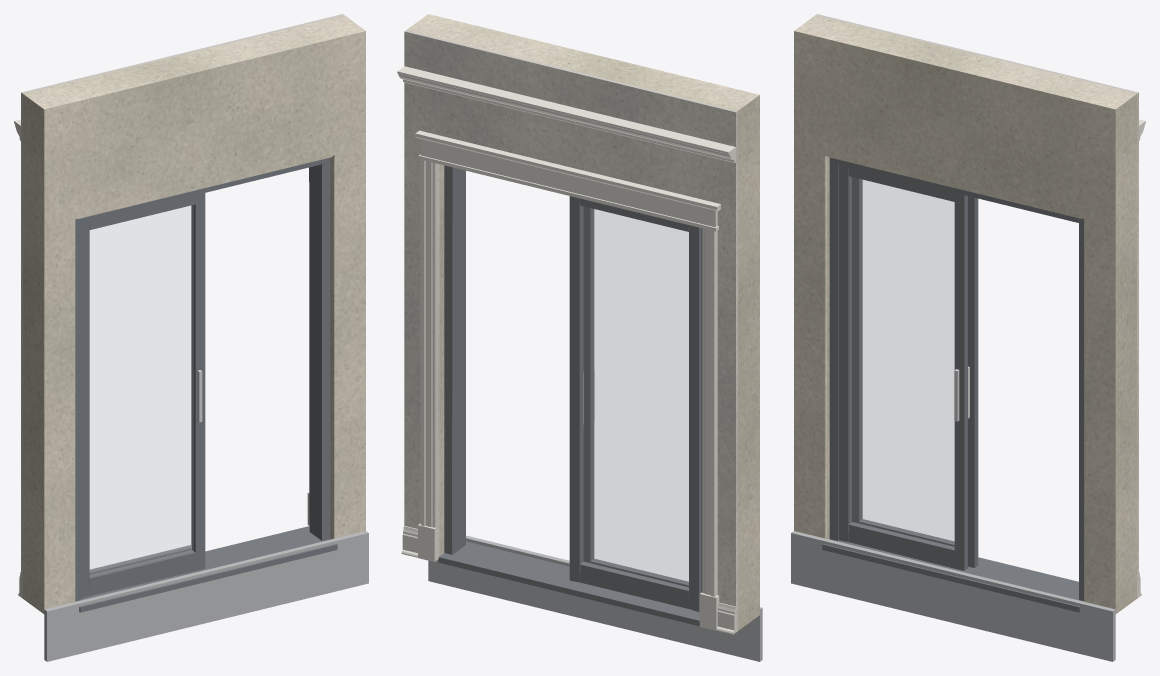
File: t_bal.glb
3 renders of one model, left to right at view 1: azimuth 30°, elevation 25°; view 2: azimuth 150°, elevation 25°; view 3: azimuth 330°, elevation 25°, orthographic. The views are drawn at different scales.
Parts seen in each view (by area): view 1: t_bal_render, t_bal_glass, t_bal_frame, t_bal_band, t_bal_plaster; view 2: t_bal_plaster, t_bal_glass, t_bal_frame, molduras, t_bal_render, t_bal_band; view 3: t_bal_render, t_bal_glass, t_bal_frame, t_bal_band, t_bal_plaster.
Part boxes in pixels (bbox=[...]): t_bal_render: bbox=[23, 15, 365, 613]; t_bal_glass: bbox=[90, 205, 193, 576]; t_bal_frame: bbox=[75, 157, 337, 612]; t_bal_band: bbox=[44, 531, 368, 661]; t_bal_plaster: bbox=[21, 14, 343, 598]; t_bal_plaster: bbox=[404, 30, 737, 632]; t_bal_glass: bbox=[582, 207, 688, 588]; t_bal_frame: bbox=[438, 165, 701, 626]; molduras: bbox=[397, 66, 735, 634]; t_bal_render: bbox=[407, 14, 759, 630]; t_bal_band: bbox=[428, 535, 762, 661]; t_bal_render: bbox=[794, 15, 1136, 613]; t_bal_glass: bbox=[850, 177, 954, 547]; t_bal_frame: bbox=[822, 157, 1084, 612]; t_bal_band: bbox=[791, 531, 1115, 661]; t_bal_plaster: bbox=[816, 14, 1138, 598].
Size of the model in its own units: 2 by 3.27 by 0.365.
Materials: 7 (2 with a texture image).
